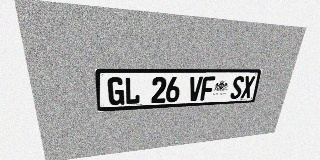2: (151, 77, 167, 103)
6: (165, 77, 181, 103)
F: (200, 76, 215, 101)
G: (107, 77, 124, 106)
L: (124, 77, 140, 105)
S: (230, 76, 245, 99)
V: (188, 76, 203, 101)
X: (240, 76, 255, 99)
